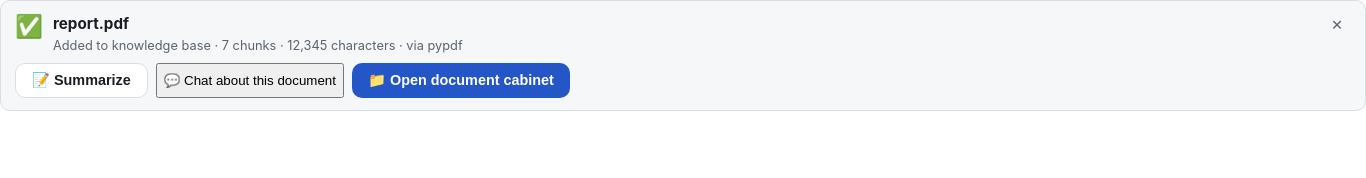
Test case: UploadCard › streams the summary with live progress
Click the button "📝 Summarize" at (81, 80), box [15, 63, 148, 98]
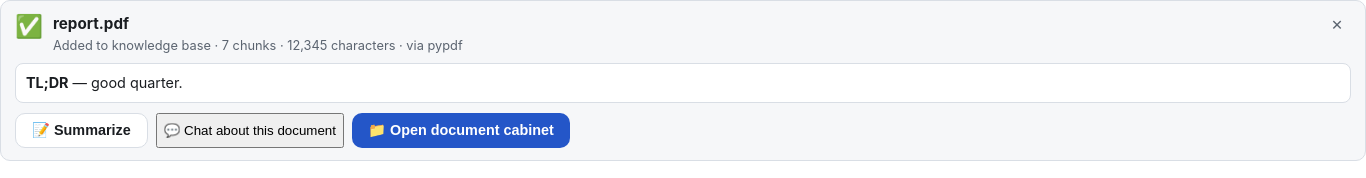
Expected: the button "Summarizing section 1/2" is shown, [15, 113, 148, 148]
Expected: the text "TL;DR — good quarter." is shown, [26, 74, 183, 91]
